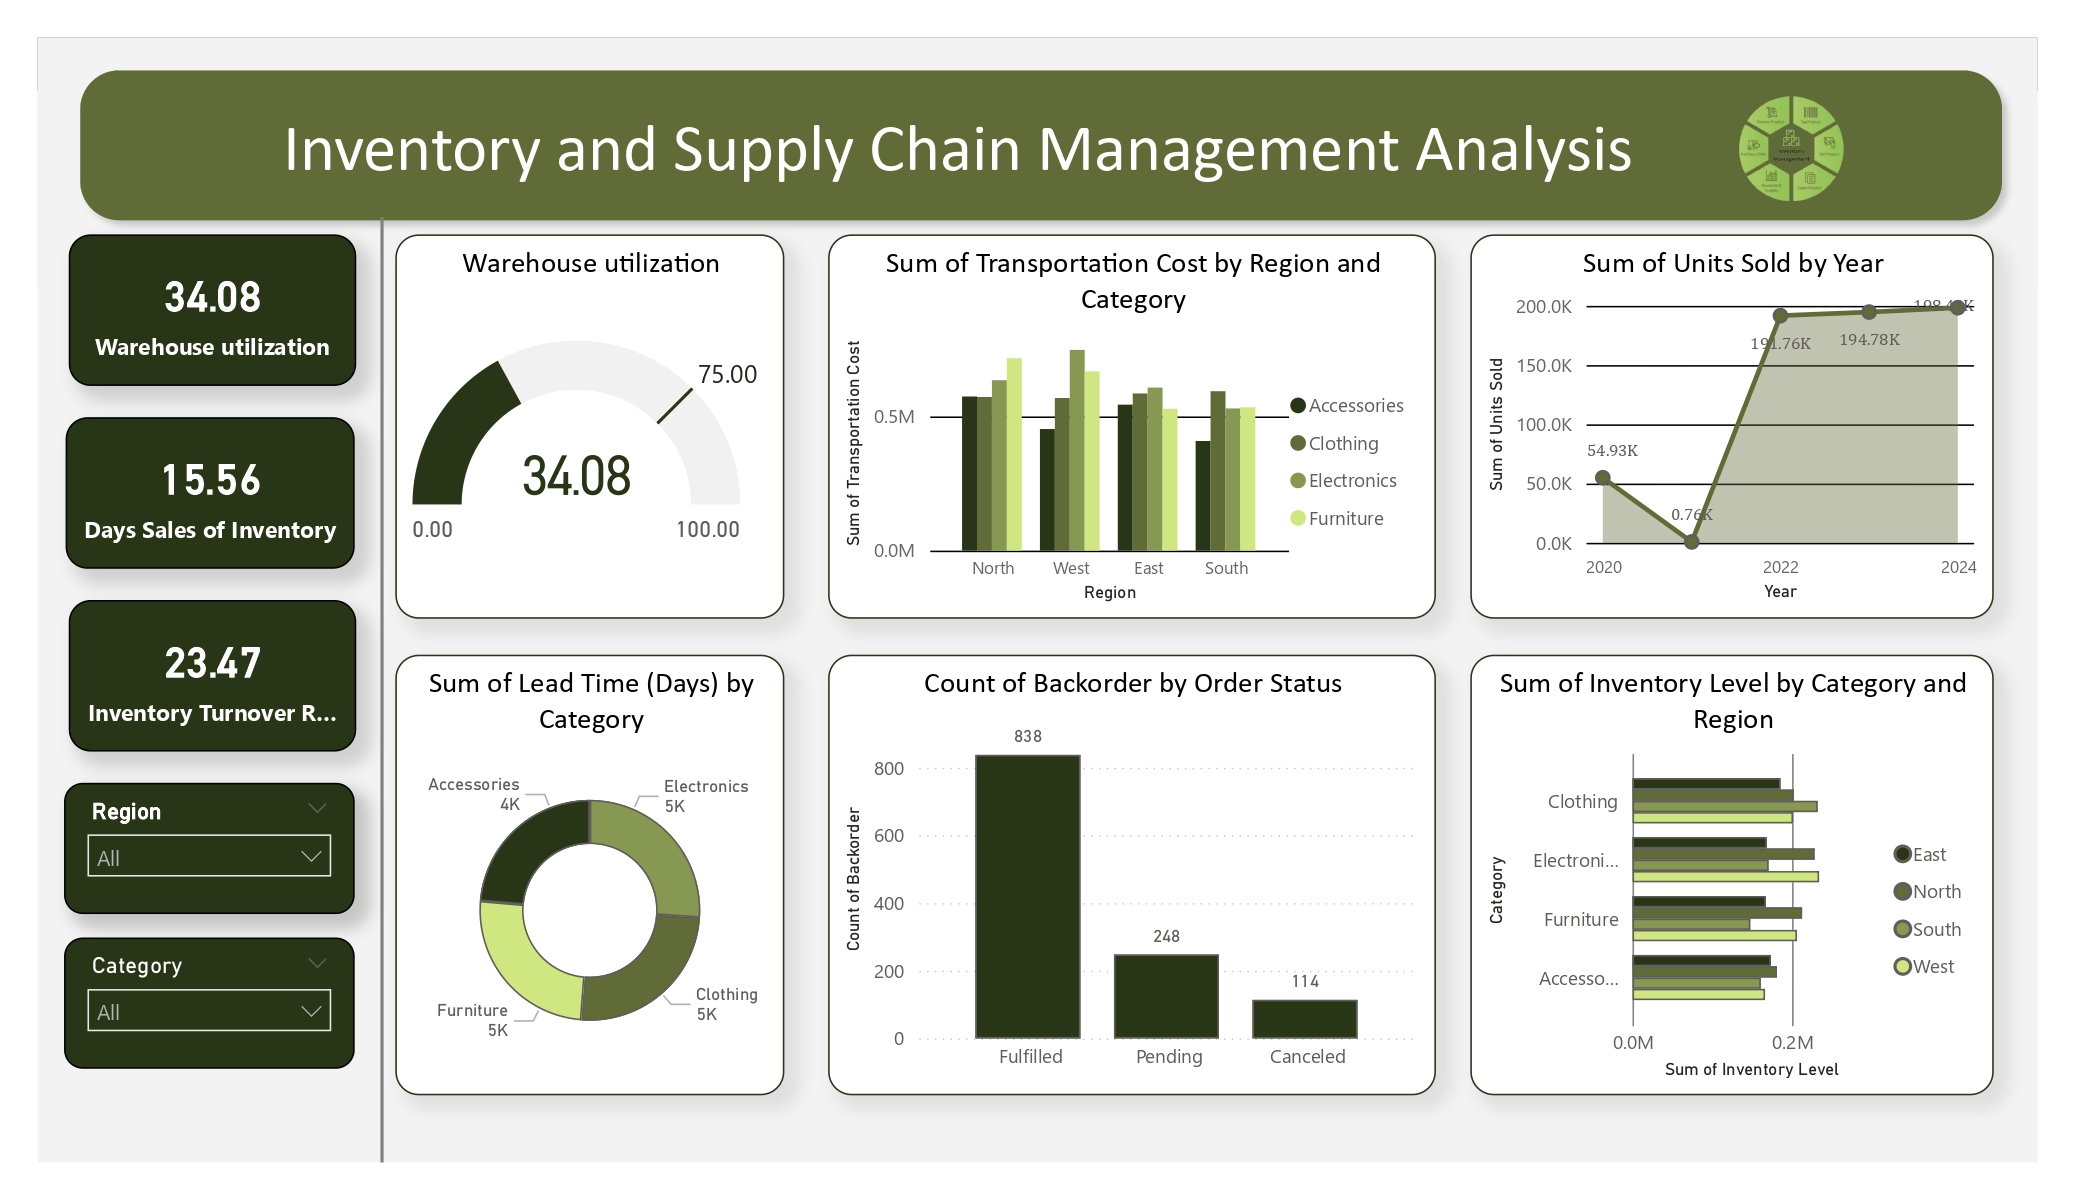

Layout of this report page (visuals, bound fields, positions):
{"tool":"powerbi","page":{"name":"Page 1","canvas":[1280,720],"ordinal":0},"visuals":[{"type":"shape","box":[18.3,12.2,1247.3,113.7],"z":0},{"type":"textbox","box":[151.6,39.1,890.2,62.4],"z":1000},{"type":"image","box":[1012.5,30.6,218.9,80.7],"z":2000},{"type":"card","fields":{"Values":["Inventory and Supply Chain Dataset.Warehouse utilization"]},"box":[19.6,126,184.6,96.6],"z":3000},{"type":"shape","box":[211.6,114.9,17.1,605.3],"z":4000},{"type":"card","fields":{"Values":["Inventory and Supply Chain Dataset.Days Sales of Inventory"]},"box":[18.3,243.3,184.6,96.6],"z":5000},{"type":"card","fields":{"Values":["Inventory and Supply Chain Dataset.Inventory Turnover Ratio"]},"box":[19.6,359.5,184.6,97.8],"z":6000},{"type":"slicer","fields":{"Values":["Inventory and Supply Chain Dataset.Region"]},"box":[17.1,476.9,185.9,84.4],"z":7000},{"type":"slicer","fields":{"Values":["Inventory and Supply Chain Dataset.Category"]},"box":[17.1,576,185.9,84.4],"z":8000},{"type":"gauge","fields":{"Y":["Inventory and Supply Chain Dataset.Warehouse utilization"]},"box":[228.7,126,249.5,245.8],"z":9000},{"type":"clusteredColumnChart","fields":{"Y":["Sum(Inventory and Supply Chain Dataset.Transportation Cost)"],"Category":["Inventory and Supply Chain Dataset.Region"],"Series":["Inventory and Supply Chain Dataset.Category"]},"box":[506.3,126,388.9,245.8],"z":10000},{"type":"lineChart","fields":{"Y":["Sum(Inventory and Supply Chain Dataset.Units Sold)"],"Category":["Inventory and Supply Chain Dataset.Date.Variation.Date Hierarchy.Year"]},"box":[917.1,126,335.1,245.8],"z":11000},{"type":"donutChart","fields":{"Y":["Sum(Inventory and Supply Chain Dataset.Lead Time (Days))"],"Category":["Inventory and Supply Chain Dataset.Category"]},"box":[228.7,395,249.5,282.5],"z":11001},{"type":"columnChart","fields":{"Y":["CountNonNull(Inventory and Supply Chain Dataset.Backorder)"],"Category":["Inventory and Supply Chain Dataset.Order Status"]},"box":[506,395,389,282],"z":11002},{"type":"clusteredBarChart","fields":{"Y":["Sum(Inventory and Supply Chain Dataset.Inventory Level)"],"Category":["Inventory and Supply Chain Dataset.Category"],"Series":["Inventory and Supply Chain Dataset.Region"]},"box":[917,395,335,282],"z":11003}]}

Visuals, with their boxes in screenshot pixels (x1, y1, x2, y2):
shape: 71, 62, 1995, 237
textbox: 277, 104, 1650, 200
image: 1605, 90, 1942, 215
card - Inventory and Supply Chain Dataset.Warehouse utilization: 73, 238, 358, 386
shape: 370, 220, 396, 1154
card - Inventory and Supply Chain Dataset.Days Sales of Inventory: 71, 418, 356, 567
card - Inventory and Supply Chain Dataset.Inventory Turnover Ratio: 73, 598, 358, 748
slicer - Inventory and Supply Chain Dataset.Region: 70, 779, 356, 909
slicer - Inventory and Supply Chain Dataset.Category: 70, 931, 356, 1062
gauge - Inventory and Supply Chain Dataset.Warehouse utilization: 396, 238, 781, 617
clusteredColumnChart - Sum(Inventory and Supply Chain Dataset.Transportation Cost) x Inventory and Supply Chain Dataset.Region: 824, 238, 1424, 617
lineChart - Sum(Inventory and Supply Chain Dataset.Units Sold) x Inventory and Supply Chain Dataset.Date.Variation.Date Hierarchy.Year: 1457, 238, 1974, 617
donutChart - Sum(Inventory and Supply Chain Dataset.Lead Time (Days)) x Inventory and Supply Chain Dataset.Category: 396, 652, 781, 1088
columnChart - CountNonNull(Inventory and Supply Chain Dataset.Backorder) x Inventory and Supply Chain Dataset.Order Status: 823, 652, 1423, 1087
clusteredBarChart - Sum(Inventory and Supply Chain Dataset.Inventory Level) x Inventory and Supply Chain Dataset.Category: 1457, 652, 1974, 1087
